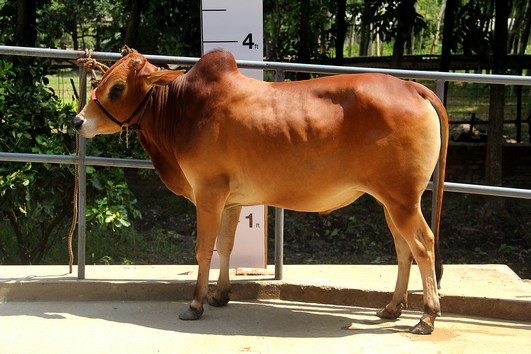cow: (74, 37, 455, 345)
